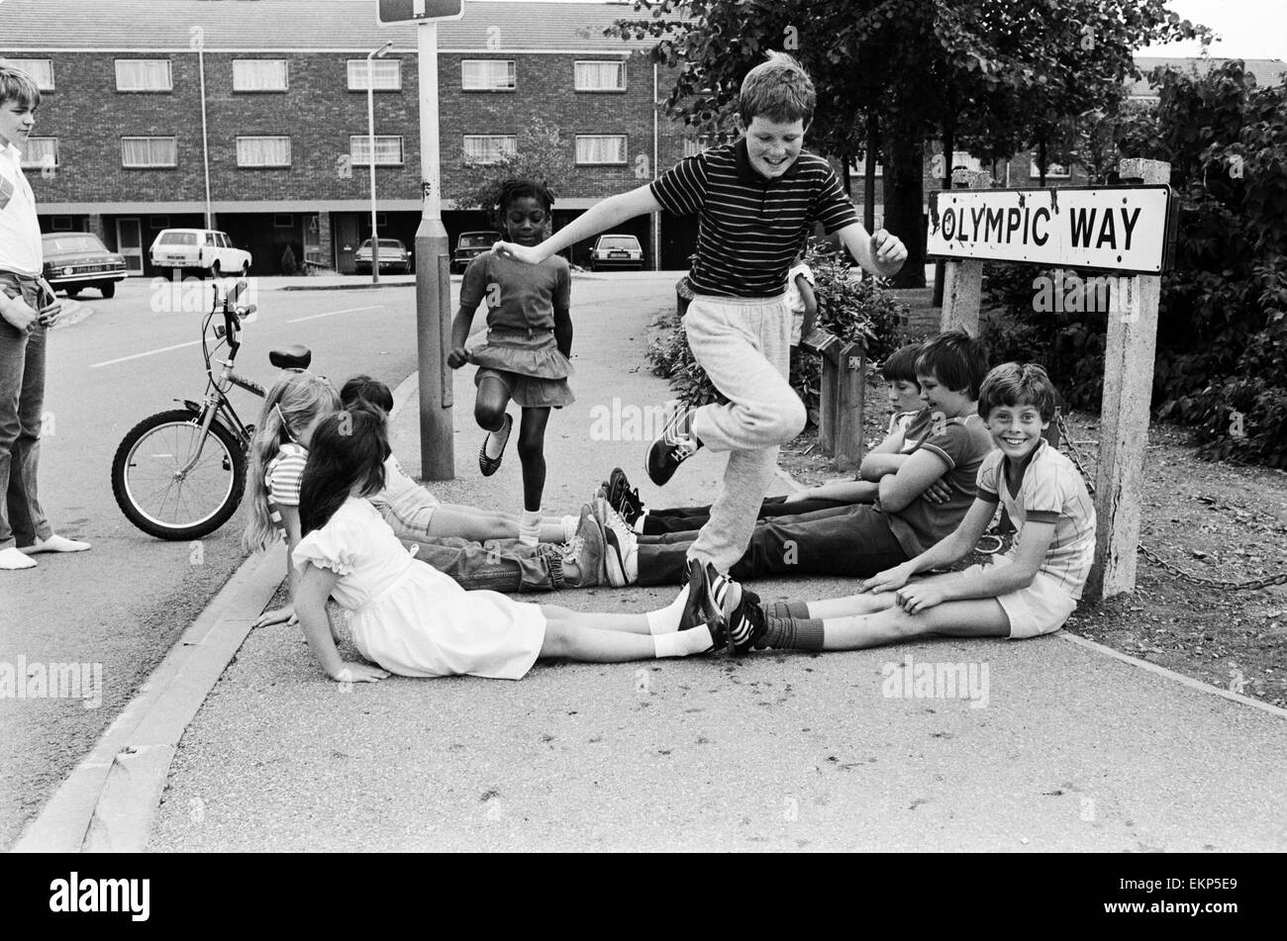Person: (602, 49, 862, 635), (443, 187, 593, 523)
